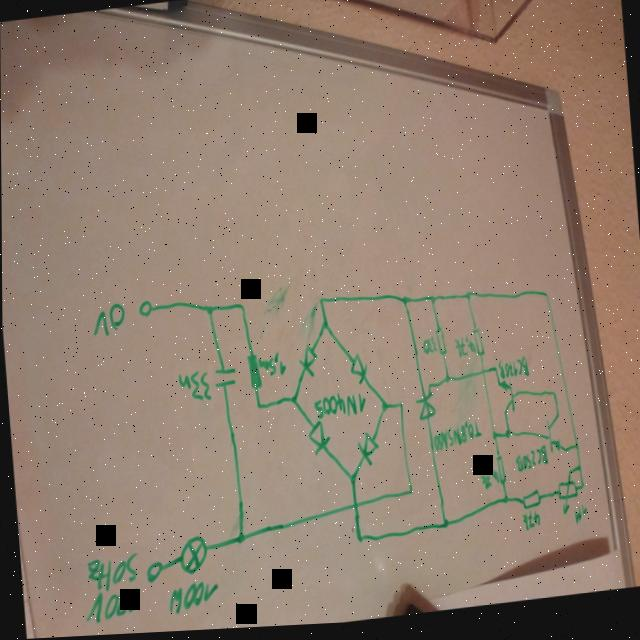capacitor: (211, 361, 241, 401)
crossover: (349, 501, 362, 519), (478, 371, 489, 384)
diode: (354, 432, 385, 474), (304, 422, 335, 464), (296, 344, 323, 385), (346, 353, 372, 393)
inductor: (243, 350, 266, 398)
junction: (234, 532, 249, 554), (460, 292, 476, 310), (286, 394, 302, 411), (319, 322, 335, 339), (438, 520, 453, 537), (202, 304, 217, 321), (398, 295, 411, 314), (347, 475, 360, 493), (316, 297, 328, 315), (379, 404, 392, 420), (355, 537, 367, 554), (427, 297, 440, 312), (504, 432, 515, 448), (237, 302, 248, 318), (489, 435, 501, 449), (501, 498, 512, 513), (253, 402, 264, 417), (405, 490, 416, 503), (548, 394, 559, 407), (442, 378, 452, 392), (541, 296, 552, 308), (397, 402, 406, 416), (572, 447, 581, 459), (578, 490, 588, 500), (575, 470, 584, 481), (492, 370, 499, 379)
resistor: (554, 473, 580, 523), (515, 494, 546, 518), (433, 328, 450, 366), (471, 326, 486, 368), (494, 458, 508, 493)
terminal: (143, 560, 165, 588), (136, 296, 156, 324)
text: (80, 550, 143, 595), (80, 589, 143, 627), (165, 581, 221, 619), (311, 394, 369, 426), (432, 425, 484, 459), (173, 367, 214, 410), (91, 301, 128, 341), (512, 450, 550, 479), (257, 353, 289, 384), (495, 362, 531, 387), (478, 470, 500, 496), (519, 515, 542, 539), (453, 341, 476, 363), (570, 510, 591, 534), (421, 341, 438, 361)
thyristor: (409, 387, 440, 430)
transistor: (544, 418, 569, 464), (496, 386, 519, 424)
